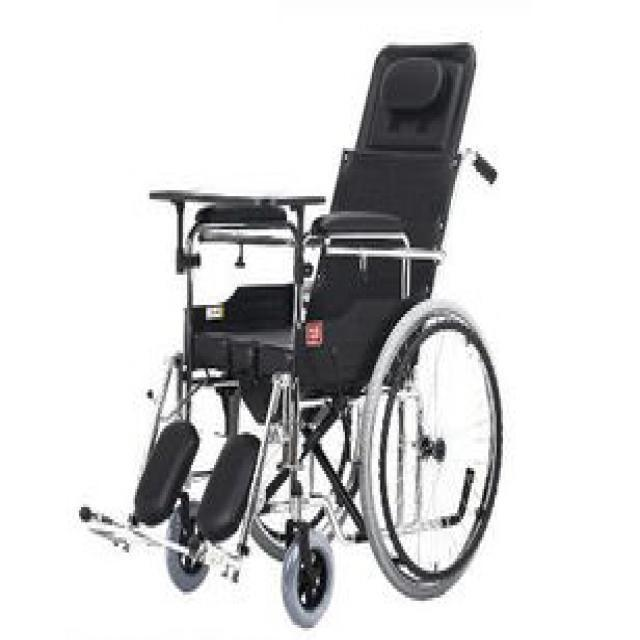wheelchairs: (96, 46, 501, 628)
